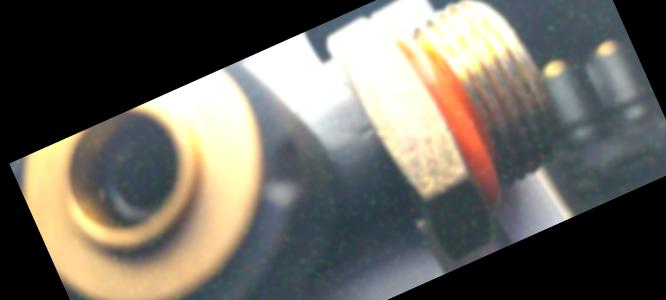bump: (237, 129, 321, 220)
white mark: (352, 119, 383, 144)
